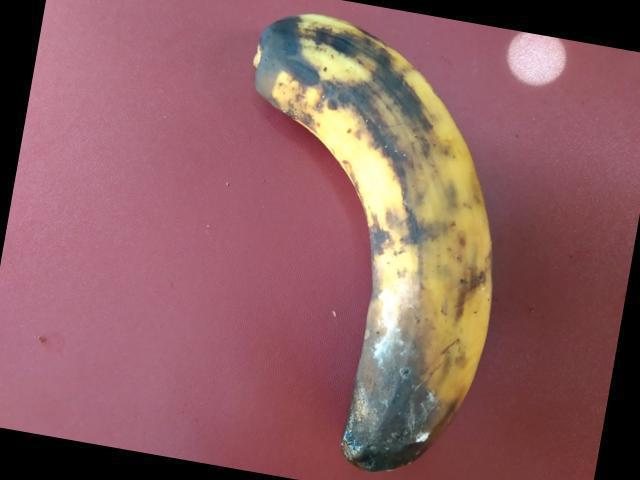rotten: (244, 17, 507, 479)
